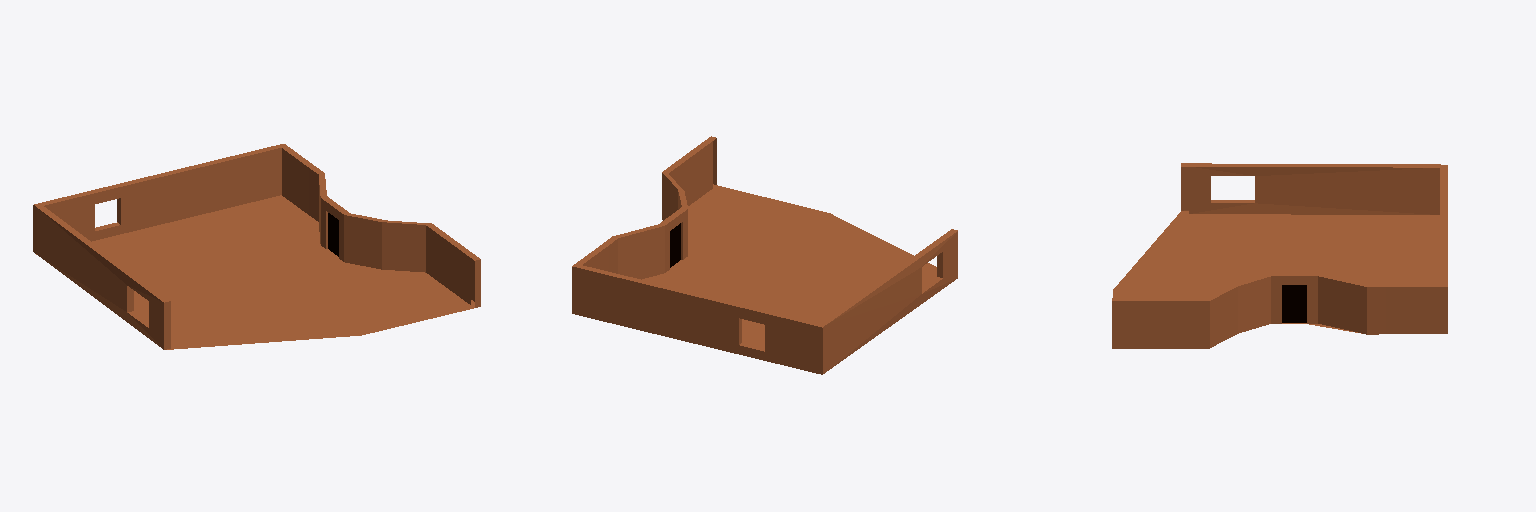
The model's file is sale2.obj.
The picture shows the model from 3 angles: view 1: azimuth 30°, elevation 25°; view 2: azimuth 150°, elevation 25°; view 3: azimuth 270°, elevation 25°; orthographic projection.
Parts seen in each view (by area): view 1: Plane; view 2: Plane; view 3: Plane.
Part boxes in pixels (bbox=[...]): Plane: bbox=[33, 144, 480, 349]; Plane: bbox=[572, 136, 957, 374]; Plane: bbox=[1112, 163, 1447, 348].
Size of the model in its own units: 12.46 by 2 by 12.84.